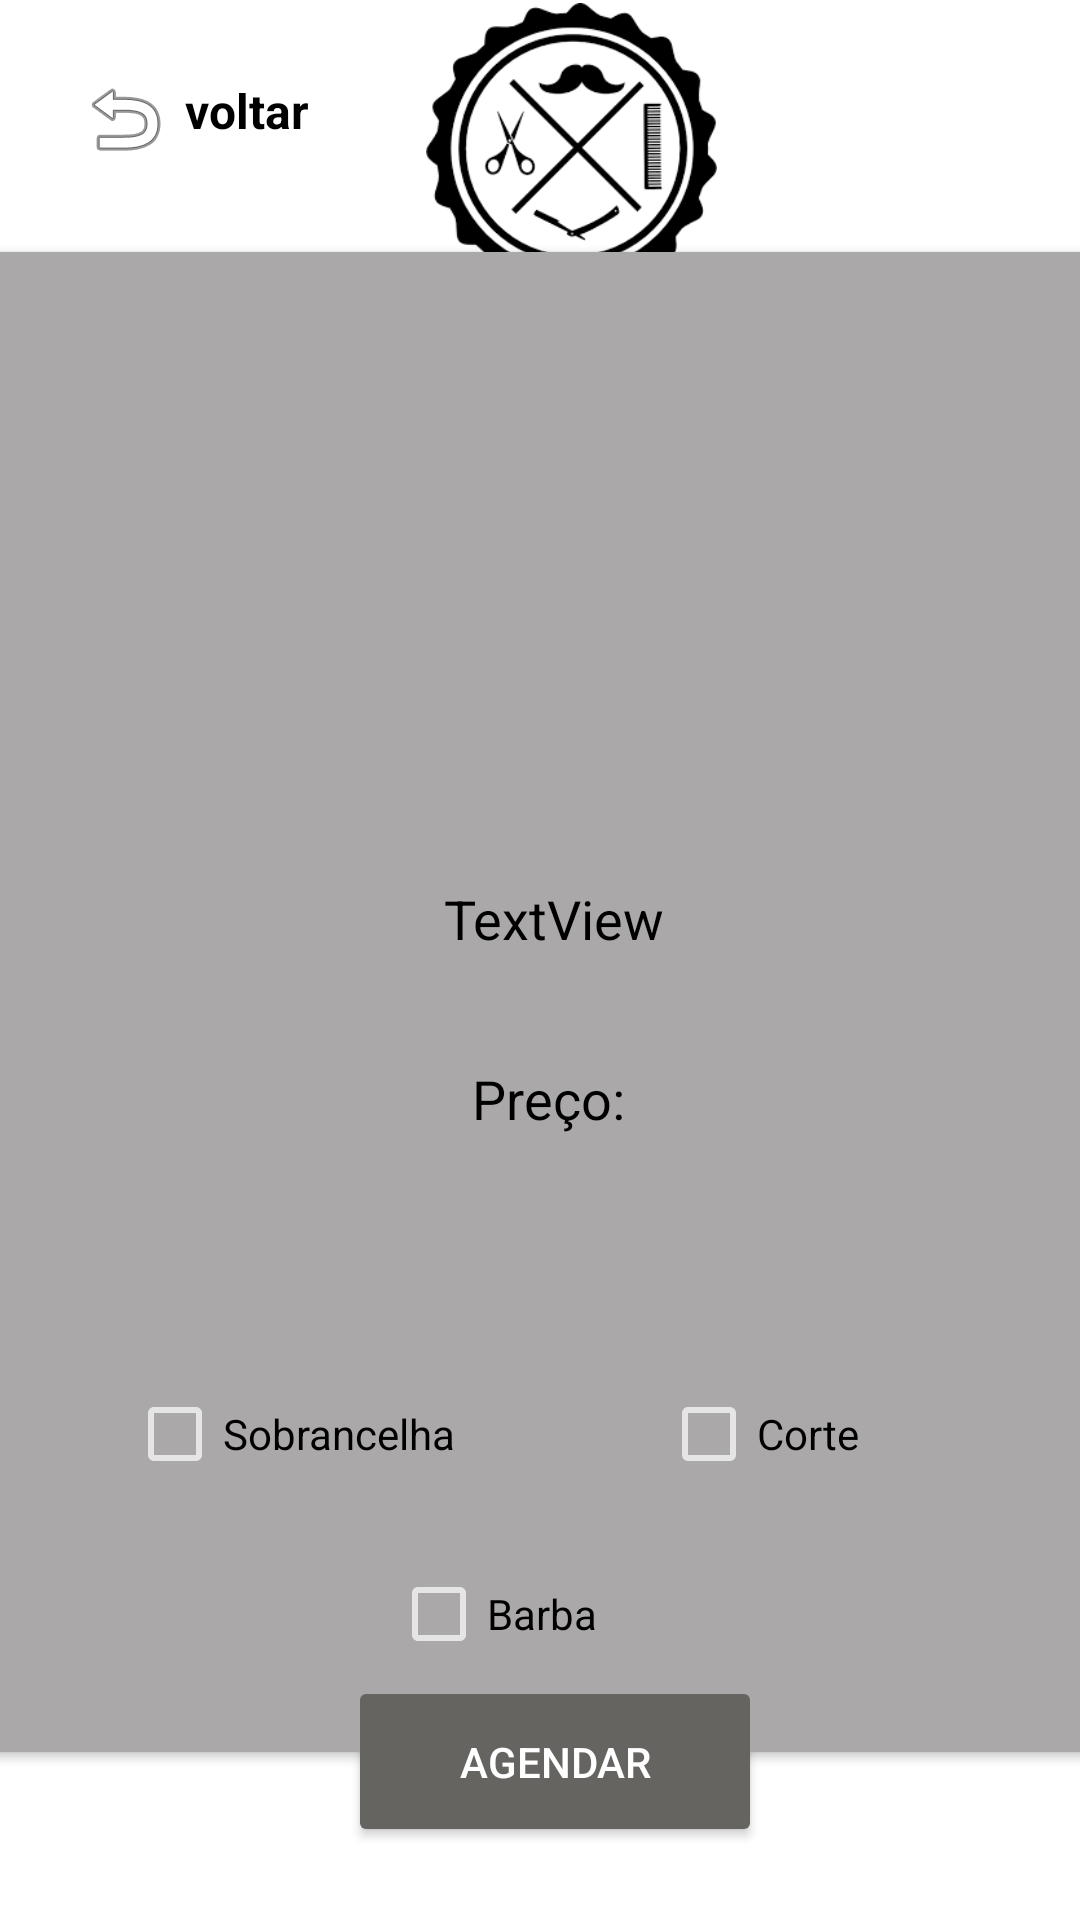

Icon click points for this 1080x1920 phone screenshot, format (x=x, y=y):
revert: (x=150, y=119)
